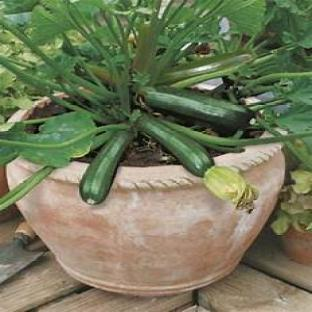Zucchini: (142, 88, 254, 130), (139, 116, 213, 176), (80, 131, 133, 204), (156, 51, 254, 85)
